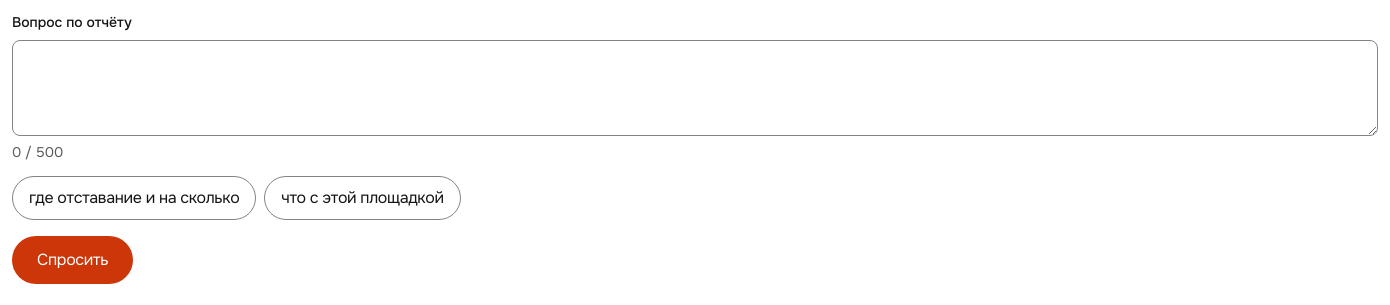
Test: AssistantQuestionForm › shows error for too short text and does not submit
In the text box labelled "Вопрос по отчёту": (695, 88) left=12, top=40, right=1378, bottom=136, type "  ab  "
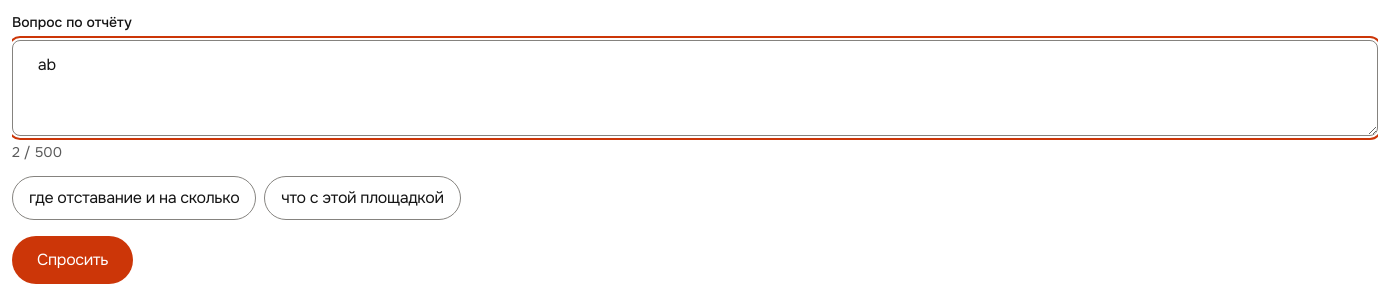
Click the button "Спросить": (73, 260) left=12, top=236, right=133, bottom=284
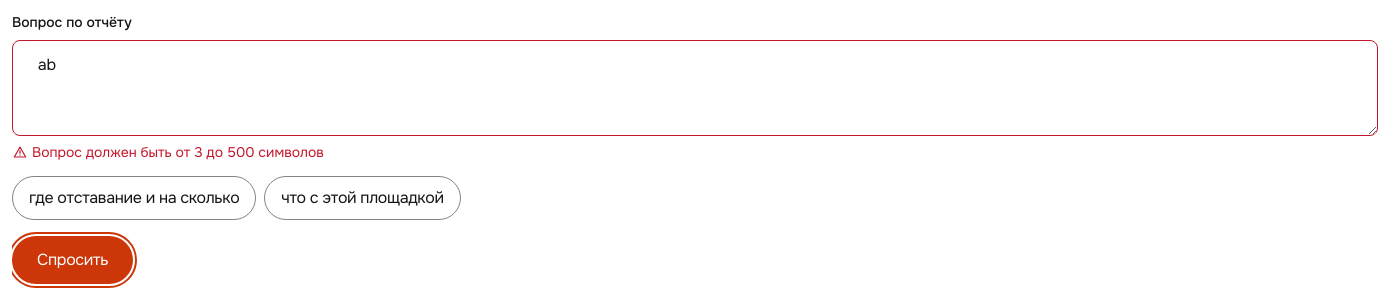
Now the text "Вопрос должен быть от 3 до 500 символов" is shown, box left=12, top=143, right=324, bottom=161
